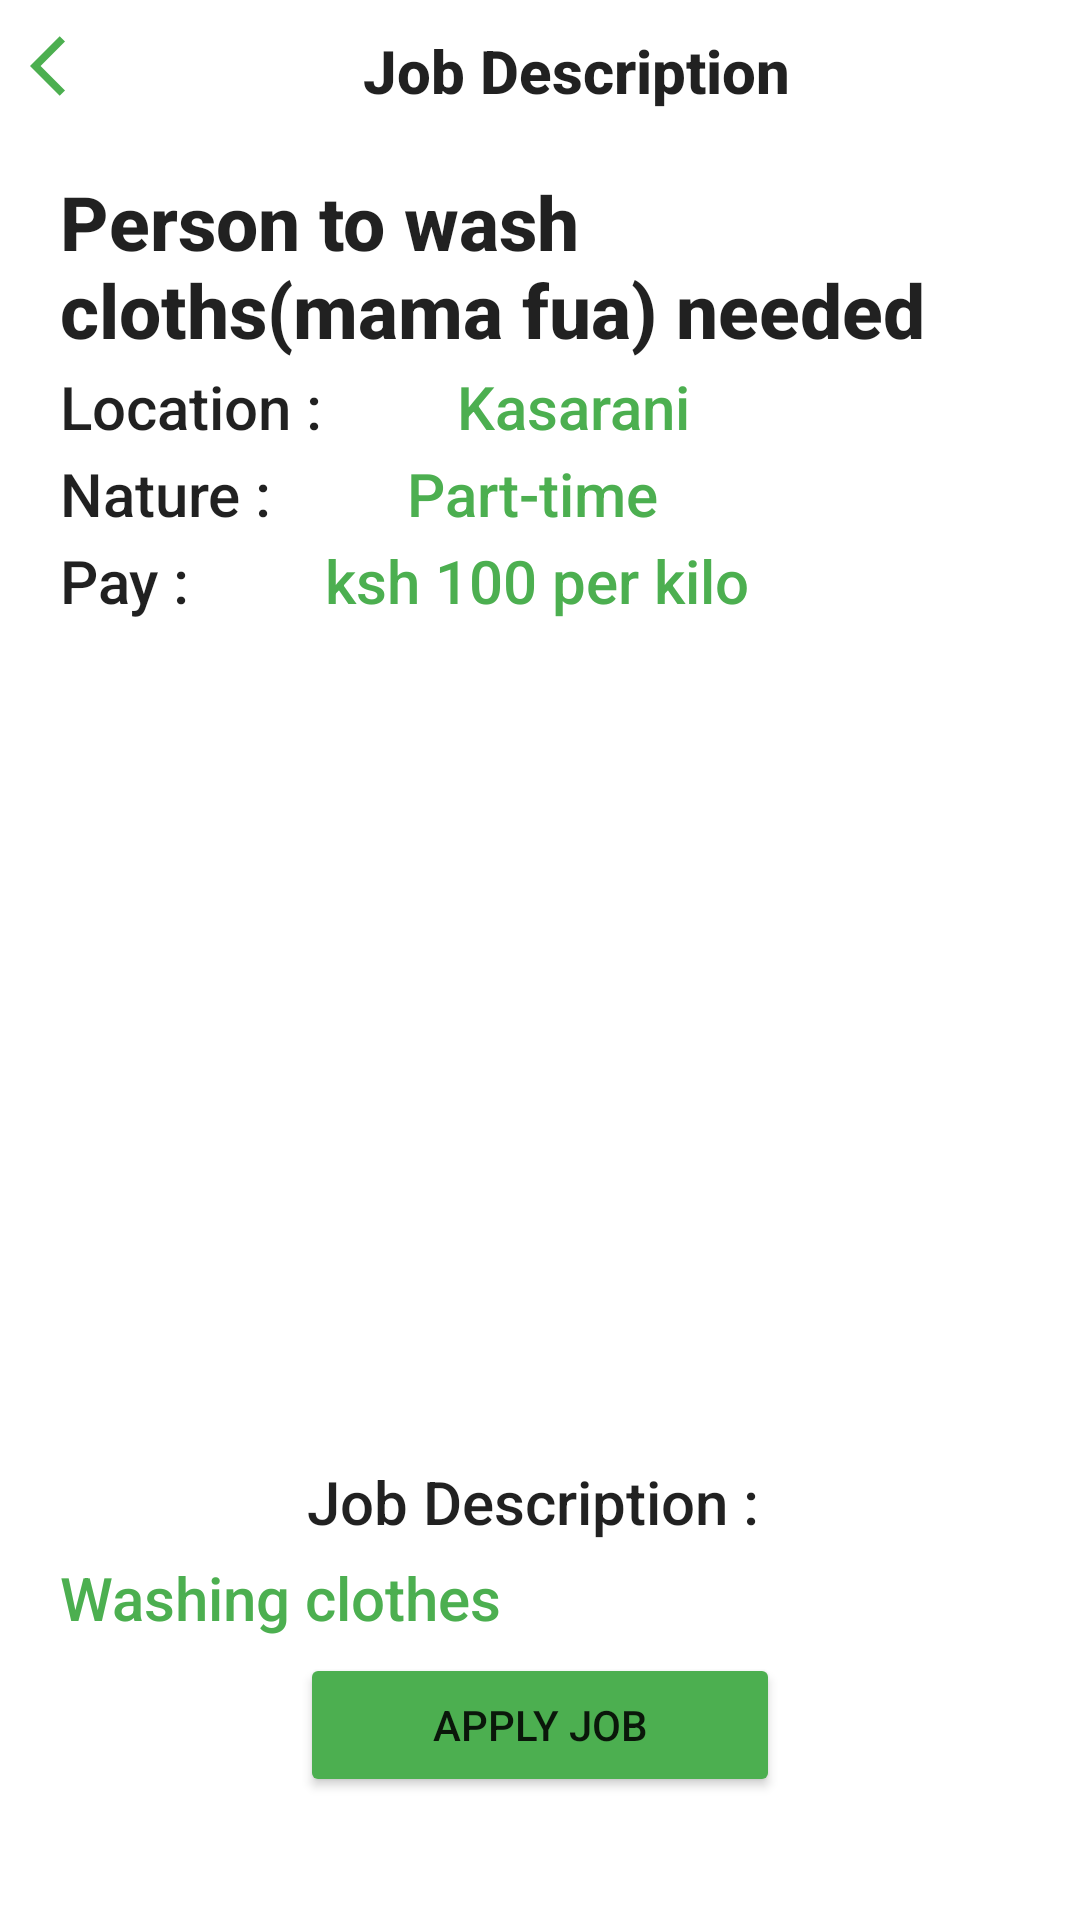

Icon bounding boxes for this 1080w x 1920h phone screenshot, format (x1=x1, y1=y1, x2=x2, y2=y2):
arrow back: (x1=30, y1=36, x2=65, y2=96)
